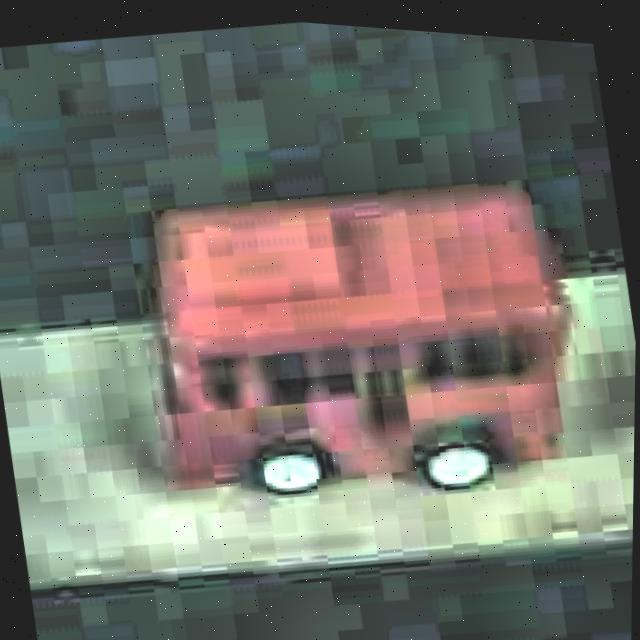bus: (120, 140, 598, 549)
